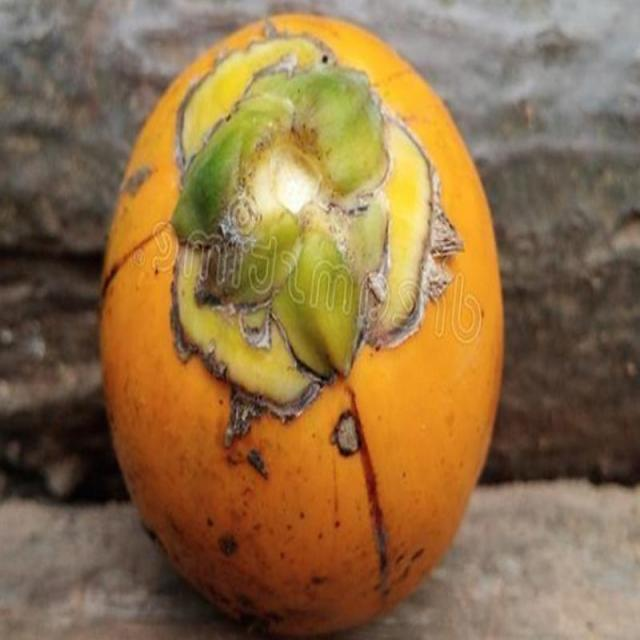good: (97, 13, 505, 639)
